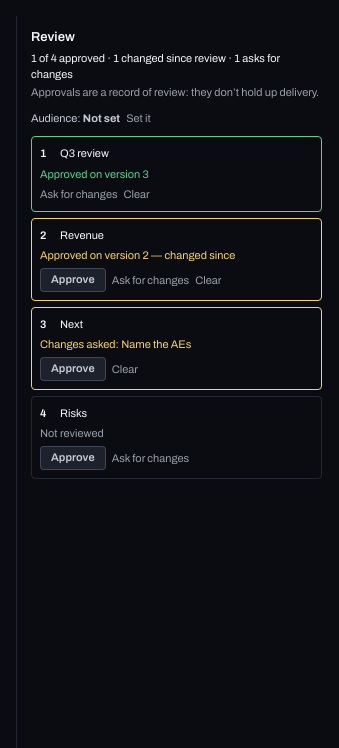
DeckReview › codex r1: a batch that fails AND a proposal that cannot be closed is said, and the rail re-reads
The image size is (339, 748).
What coordinates should you click on to do the following:
click the button with test id "deck-audience-change"
I would click on:
 (138, 118)
Its box is [126,110,151,126].
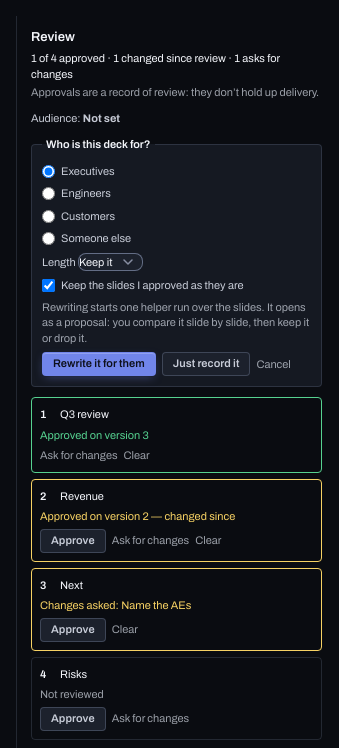
What coordinates should you click on to do the following:
click the button with test id "deck-audience-adapt"
I would click on:
 (99, 364)
Its box is [42,352,156,376].
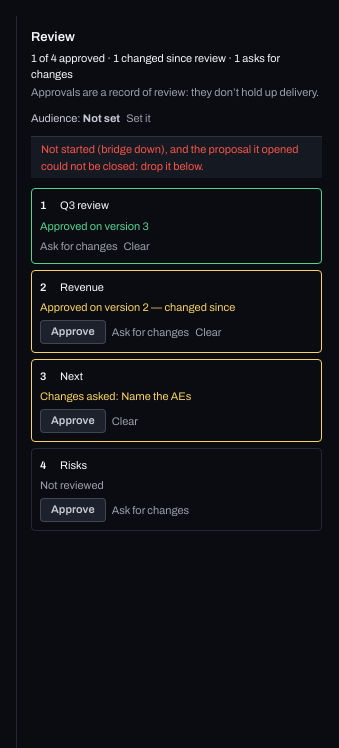
Check: the text with test id "deck-review-line" shows "could not be closed: drop it below", box [41,143,299,172]
